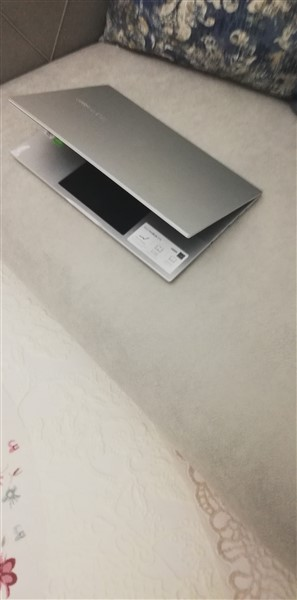laptop: (2, 80, 268, 288)
